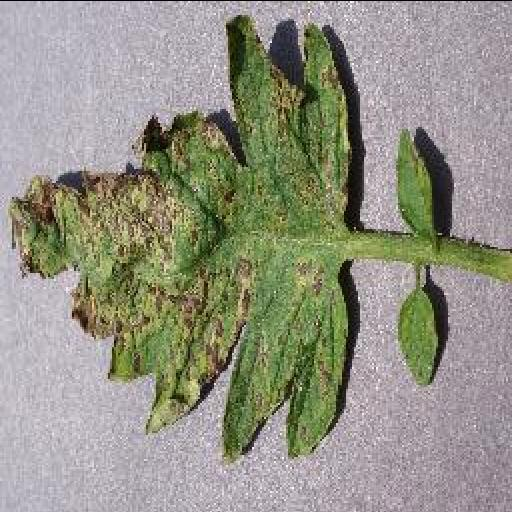disease_tomato: (8, 12, 354, 457)
